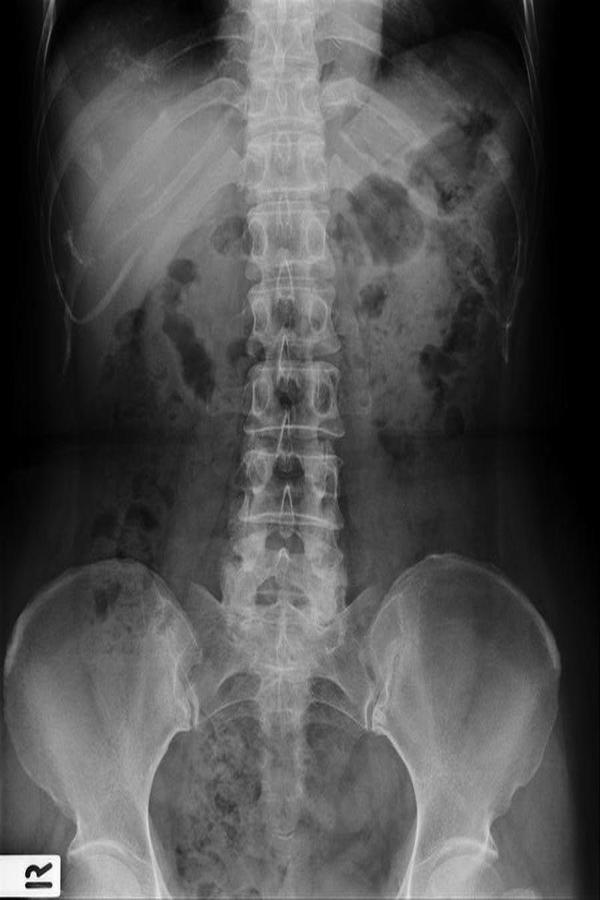lumbar scoliosis: (217, 8, 345, 666)
